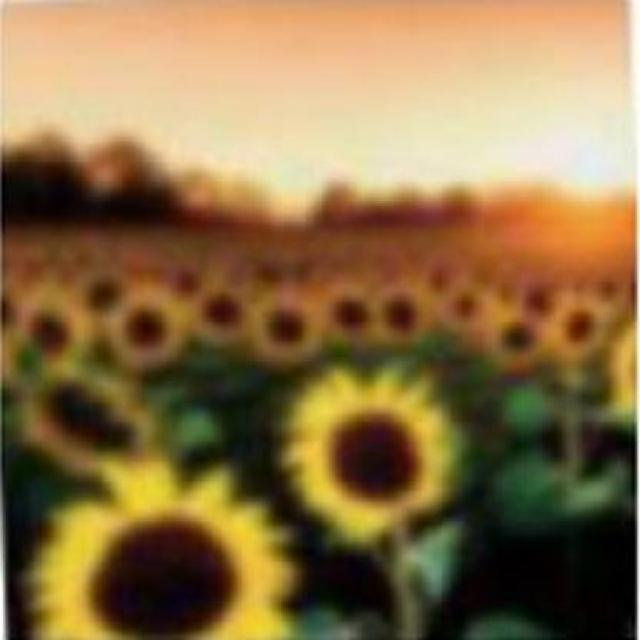sunflower: (28, 471, 290, 640), (282, 370, 466, 547)
